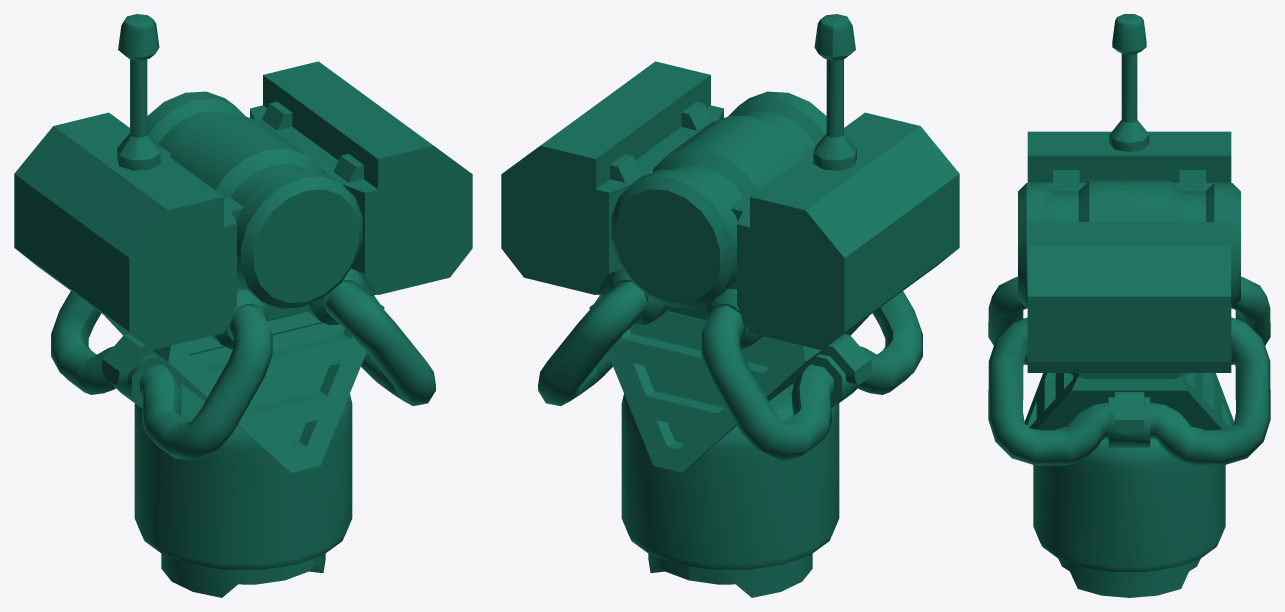
The model's file is obj_survivalobject_controlstationkey01.fbx.
The picture shows the model from 3 angles, left to right: view 1: azimuth 30°, elevation 25°; view 2: azimuth 150°, elevation 25°; view 3: azimuth 270°, elevation 25°; orthographic projection. The views are drawn at different scales.
Visible parts, largest first — view 1: part4_lp.002; view 2: part4_lp.002; view 3: part4_lp.002.
Part boxes in pixels (left/top/right/bottom): part4_lp.002: left=14, top=14, right=472, bottom=597; part4_lp.002: left=501, top=14, right=959, bottom=597; part4_lp.002: left=988, top=14, right=1270, bottom=597.
Bounding box in the file's own units: 3.64 × 5.79 × 2.94.
